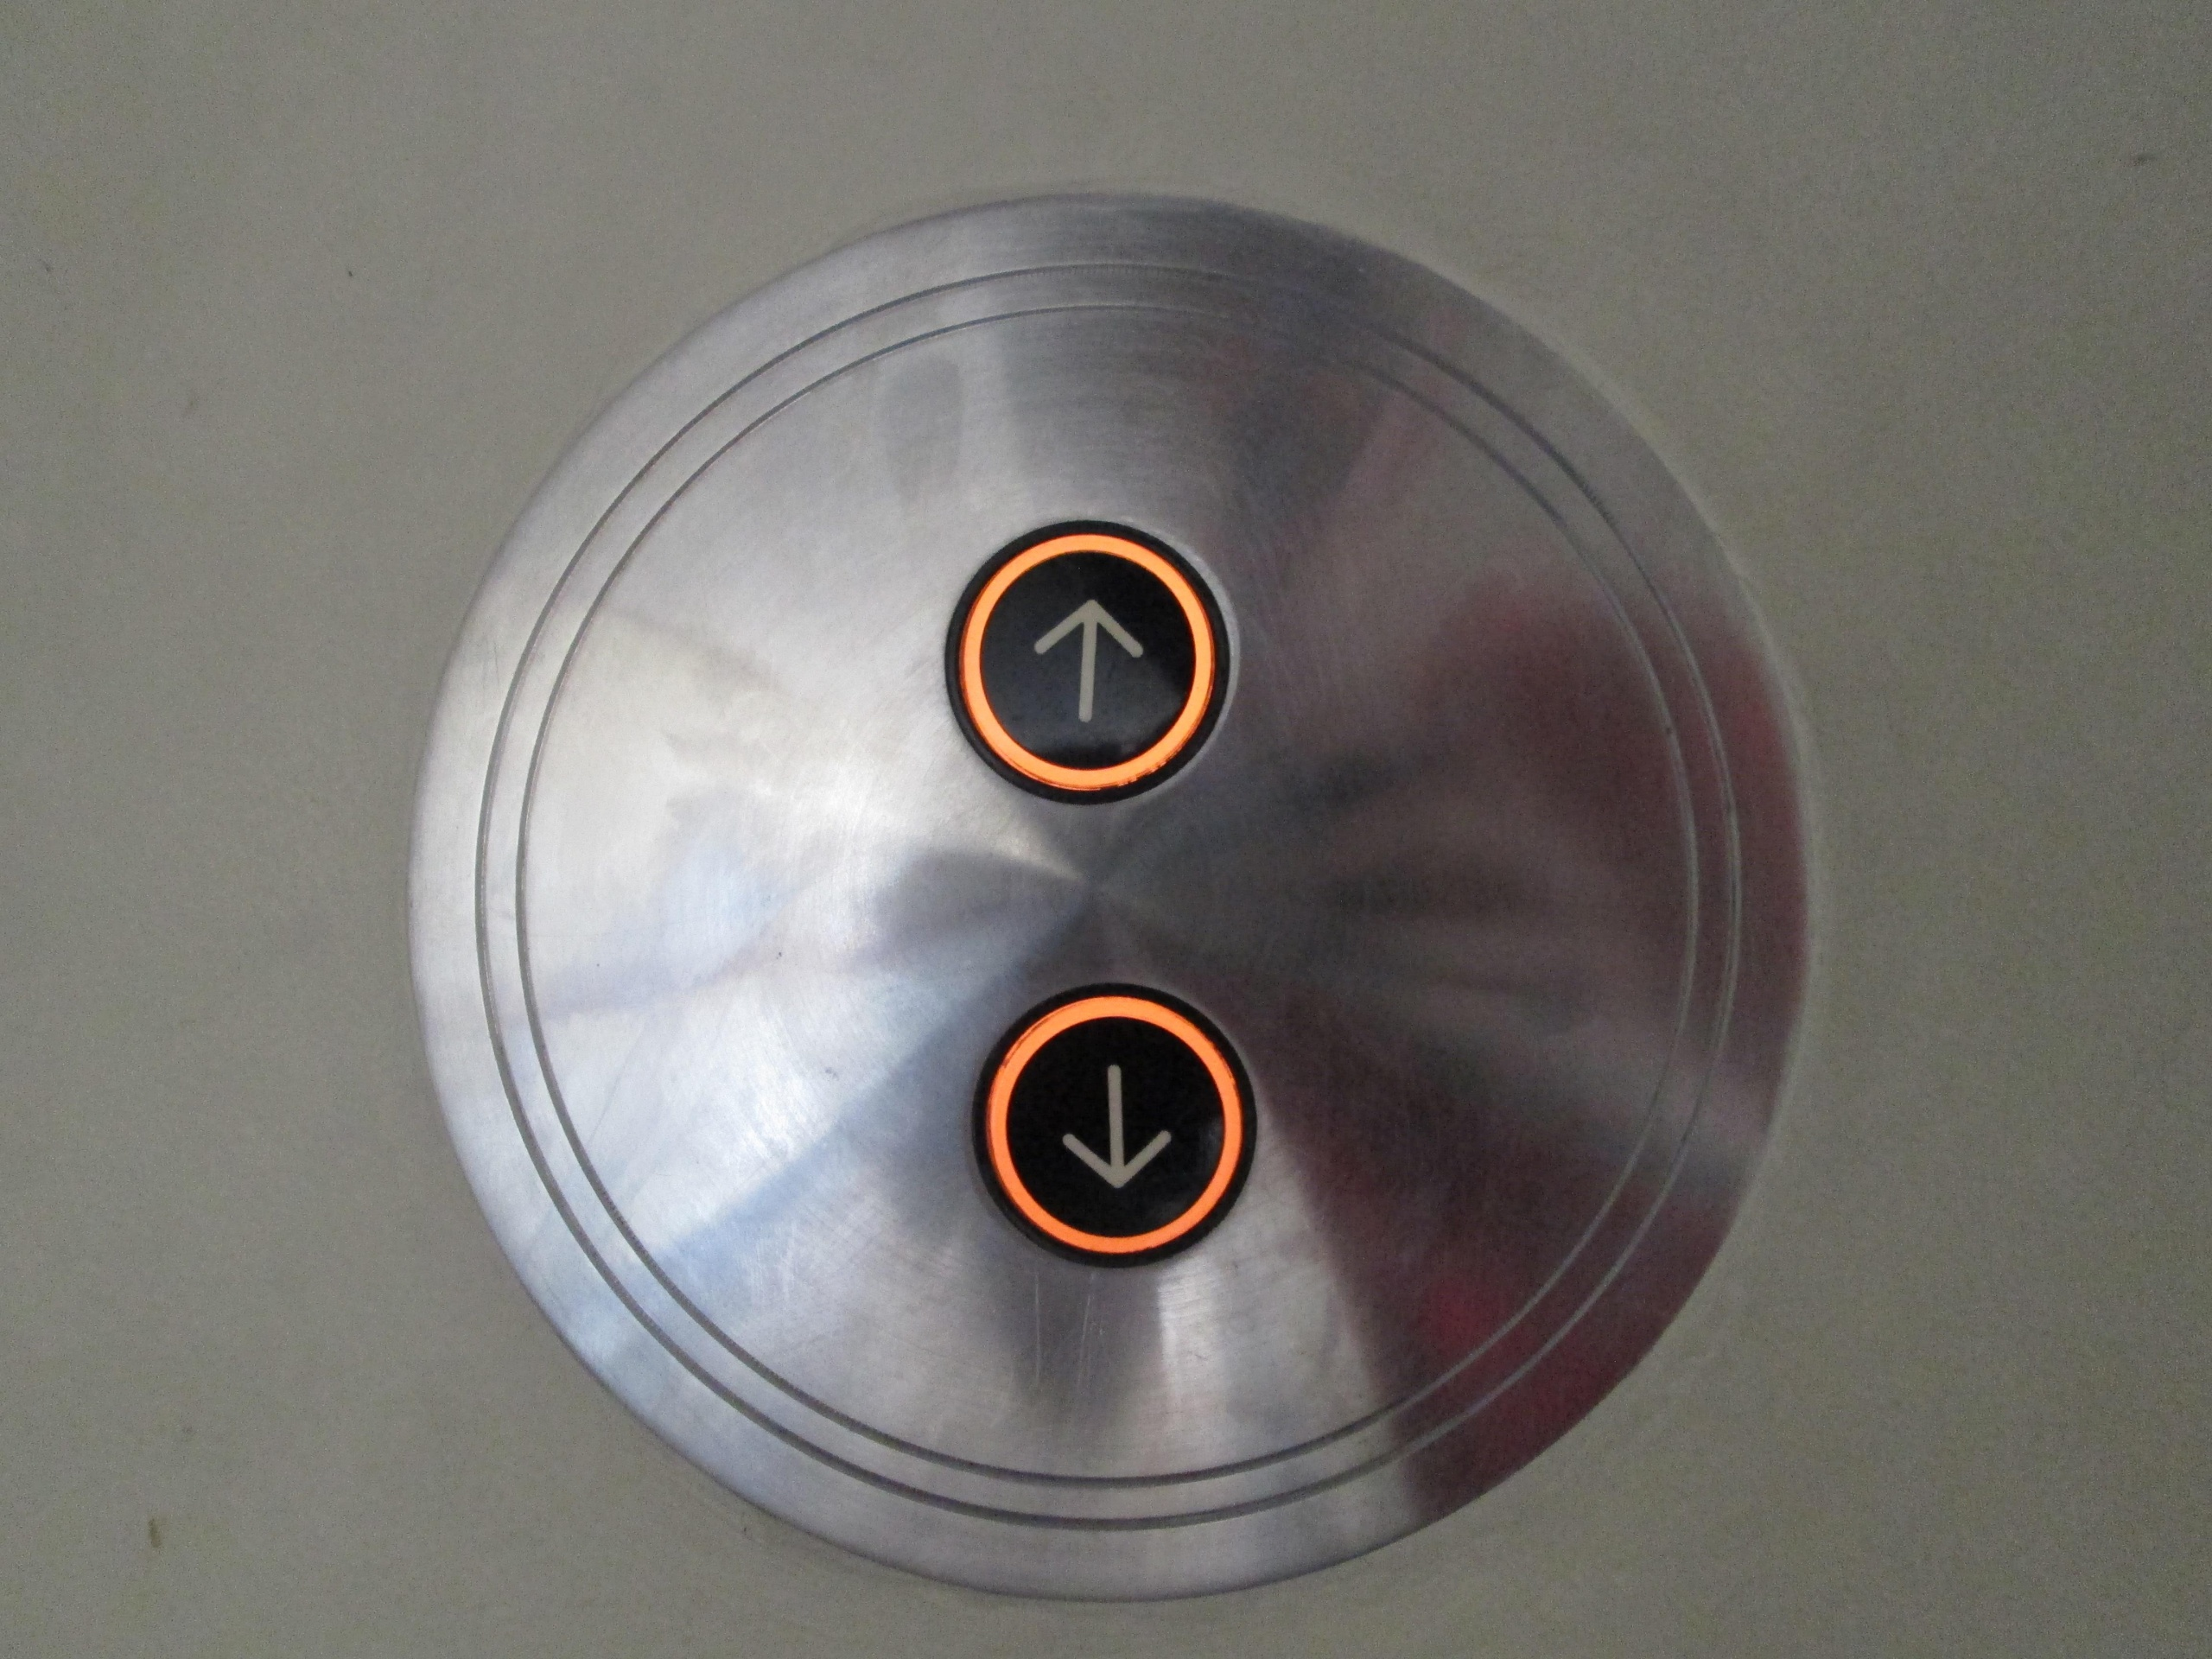down: (965, 974, 1264, 1269)
up: (934, 512, 1242, 807)
